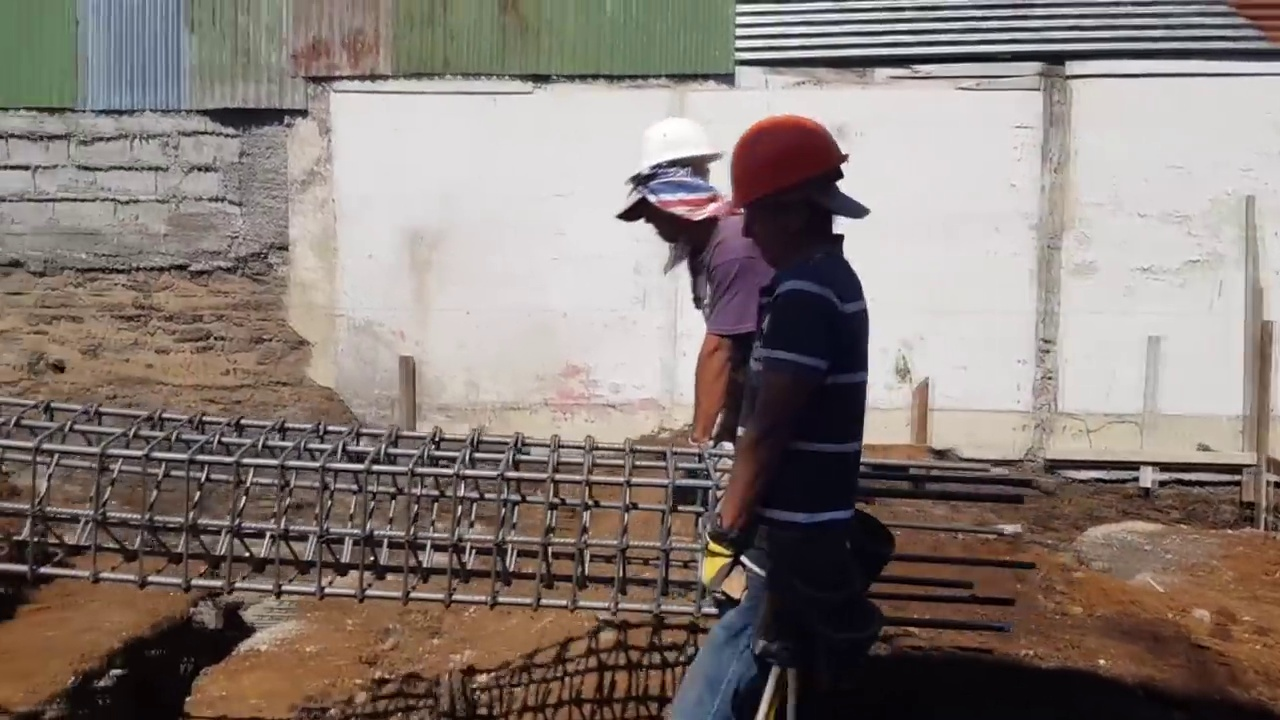helmet: (723, 112, 855, 212), (636, 116, 717, 172)
helmet-on: (721, 107, 869, 281), (629, 114, 717, 251)
person: (700, 86, 896, 705), (637, 119, 778, 520)
